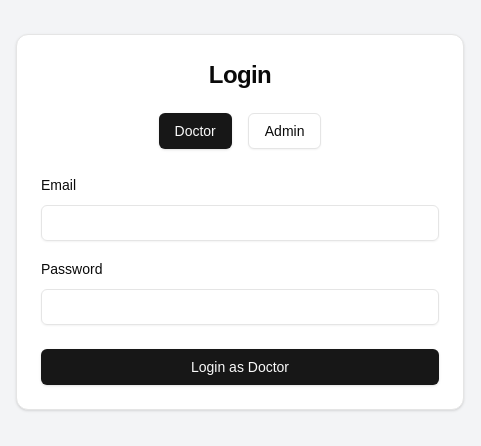
Test: LoginPage Component › shows error when password is less than 8 characters
Step 1. Type "test@example.com" into the field with test id "email-input" → (240, 223), box [41,205,439,241]
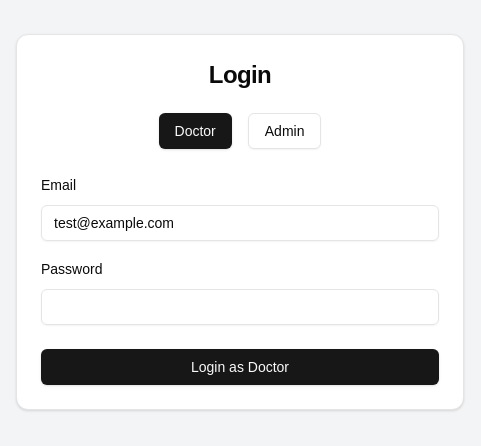
Step 2. Type "short" into the password field with test id "password-input" → (240, 307), box [41,289,439,325]
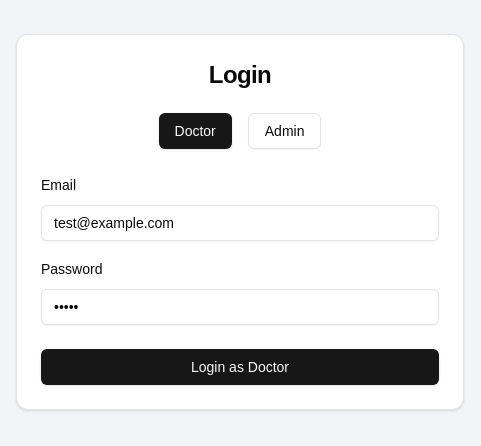
Step 3. Click the button with test id "login-submit-button" → (240, 367), box [41,349,439,385]
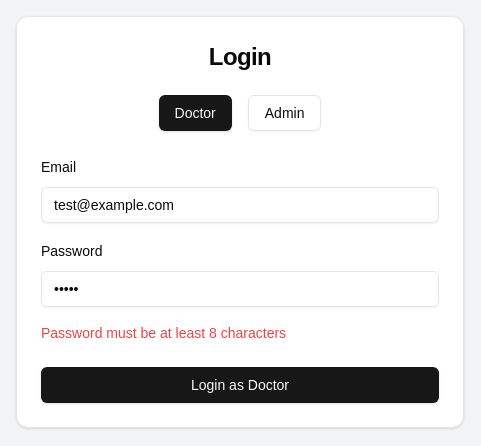
Expected: the text with test id "error-message" reads "Password must be at least 8 characters", [41,325,286,341]
